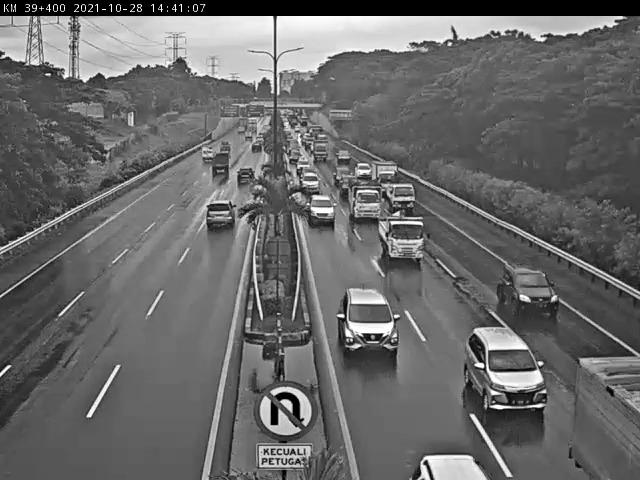car: (464, 325, 550, 414), (338, 287, 400, 356), (494, 261, 561, 316), (306, 195, 335, 227)
mid truck: (378, 218, 426, 266), (348, 183, 383, 221), (205, 199, 237, 229), (386, 181, 415, 211)
